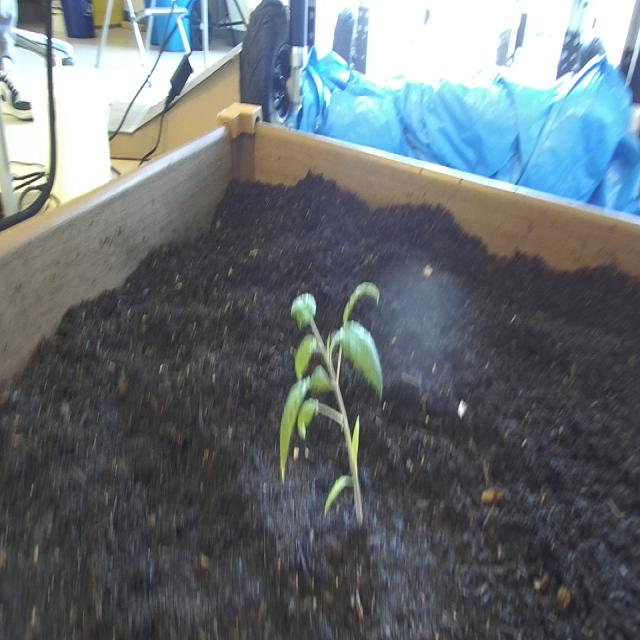Healthy: (278, 276, 387, 534)
